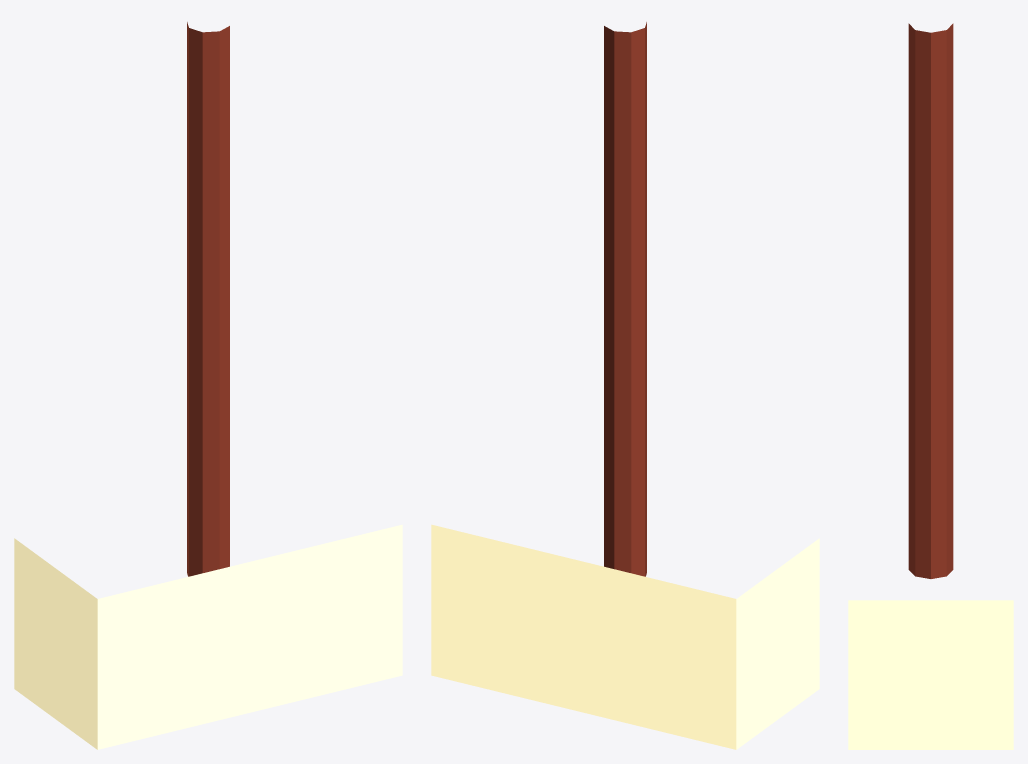
File: dawnbreaker.glb
3 renders of one model, left to right at view 1: azimuth 30°, elevation 25°; view 2: azimuth 150°, elevation 25°; view 3: azimuth 270°, elevation 25°, orthographic.
Parts seen in each view (by area): view 1: dawnbreaker-head, dawnbreaker-haft; view 2: dawnbreaker-head, dawnbreaker-haft; view 3: dawnbreaker-haft, dawnbreaker-head.
Boxes of the visible parts, box(x1,y1,x2,y2) form: dawnbreaker-head: box(14, 524, 402, 749); dawnbreaker-haft: box(187, 22, 229, 576); dawnbreaker-head: box(431, 524, 819, 749); dawnbreaker-haft: box(604, 22, 646, 576); dawnbreaker-haft: box(908, 23, 953, 578); dawnbreaker-head: box(848, 600, 1013, 749).
Bounding box in the file's own units: 0.55 × 1.13 × 0.26.
